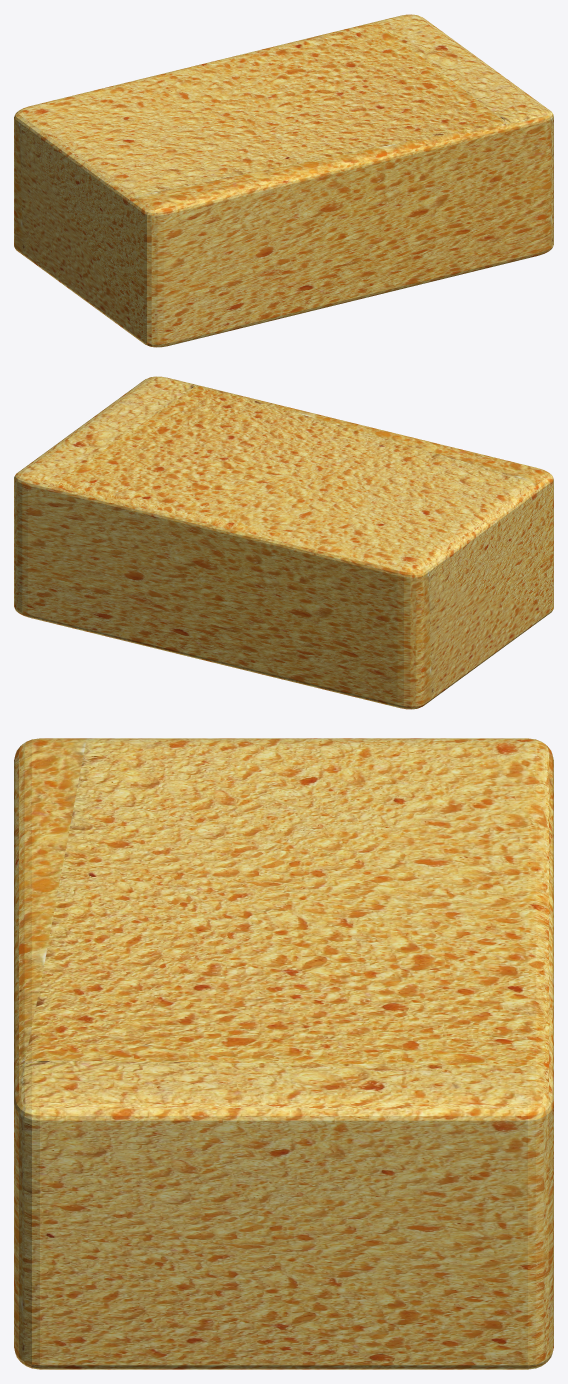
The model's file is schwamm.gltf.
3 renders of one model, top to bottom at view 1: azimuth 30°, elevation 25°; view 2: azimuth 150°, elevation 25°; view 3: azimuth 270°, elevation 25°, orthographic. The views are drawn at different scales.
Parts seen in each view (by area): view 1: Cube; view 2: Cube; view 3: Cube.
Part boxes in pixels (left/top/right/bottom): Cube: left=14, top=14, right=553, bottom=347; Cube: left=14, top=376, right=553, bottom=709; Cube: left=14, top=738, right=553, bottom=1369.
Size of the model in its own units: 2 by 0.6675 by 1.21.
1 material, 1 textured.
